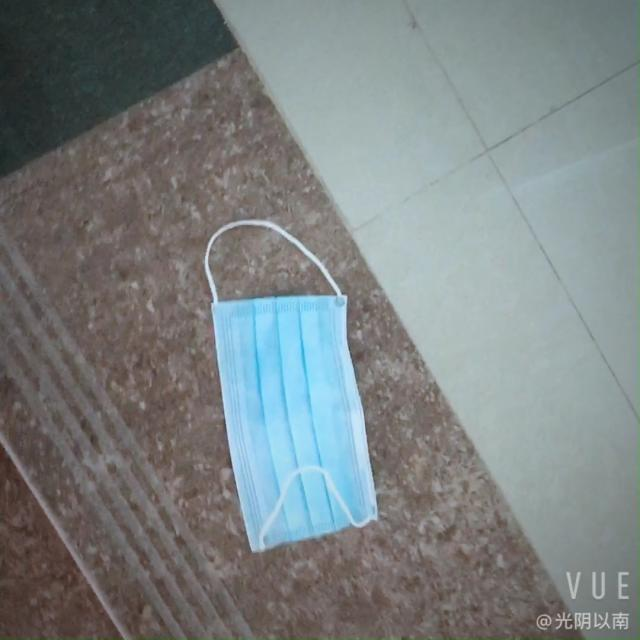face mask: (200, 281, 384, 552)
